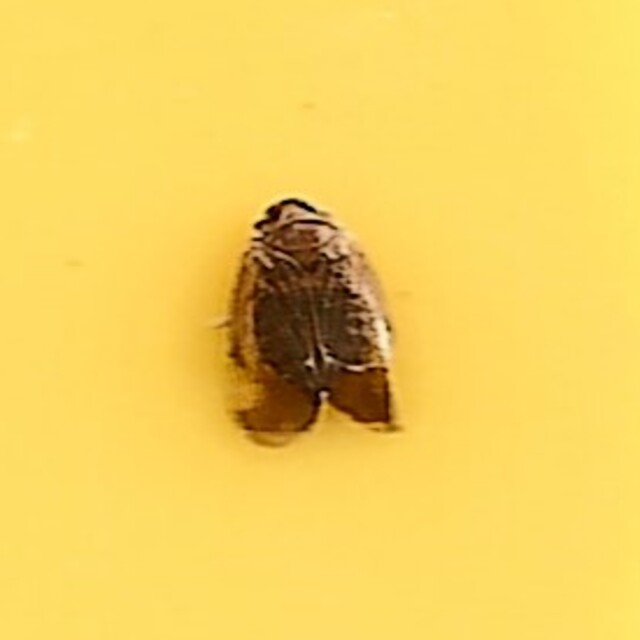Coleoptera: (233, 195, 407, 445)
